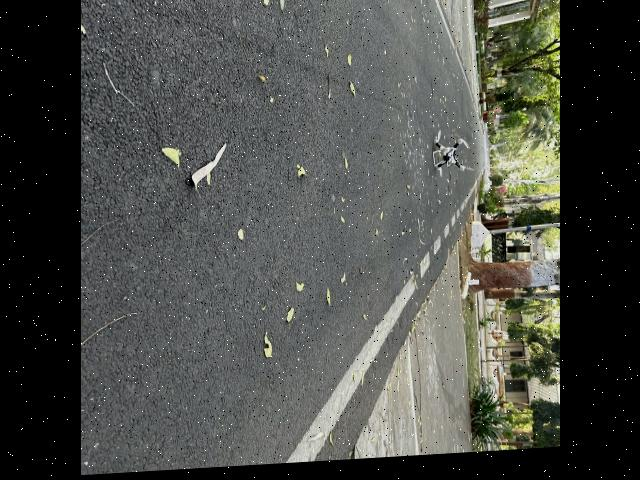drone: (422, 117, 481, 207)
